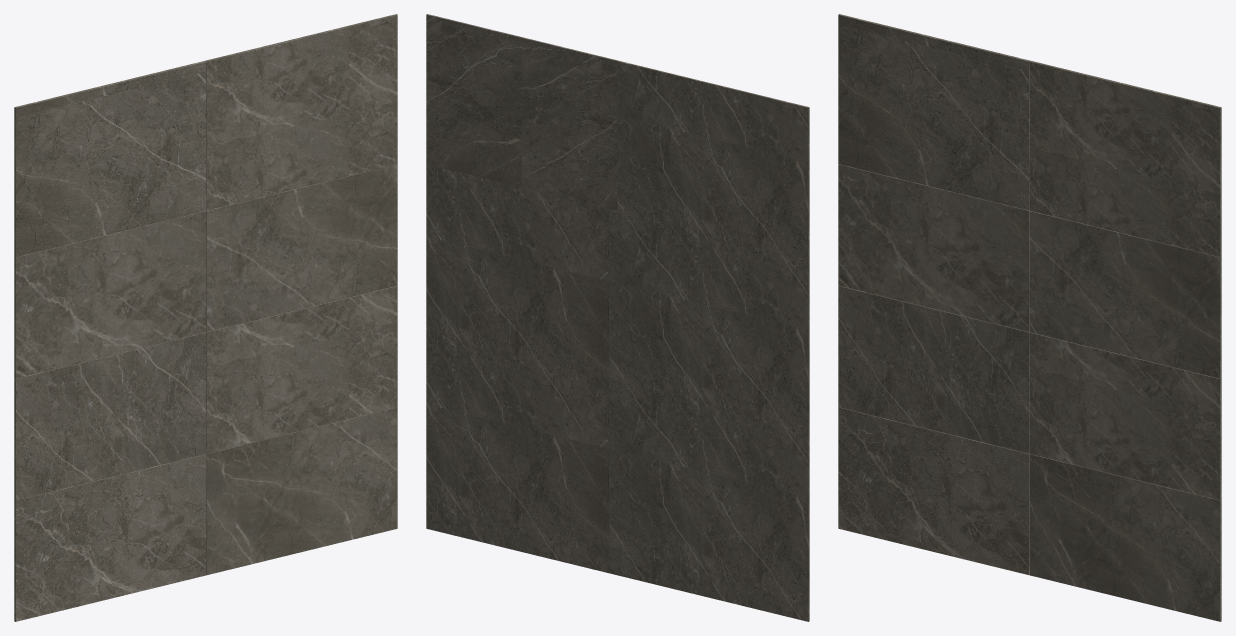
File: muroback.gltf
3 views of the same model, side by side, from view 1: azimuth 30°, elevation 25°; view 2: azimuth 150°, elevation 25°; view 3: azimuth 330°, elevation 25° (orthographic).
Visible parts, largest first — view 1: muroback; view 2: muroback; view 3: muroback.
Part boxes in pixels (x1,y1,x2,y2): muroback: (14, 14, 397, 621); muroback: (426, 14, 809, 621); muroback: (838, 14, 1221, 621).
Bounding box in the file's own units: 0.0444 × 0.0571 × 0.000225.
3 materials, 3 textured.
